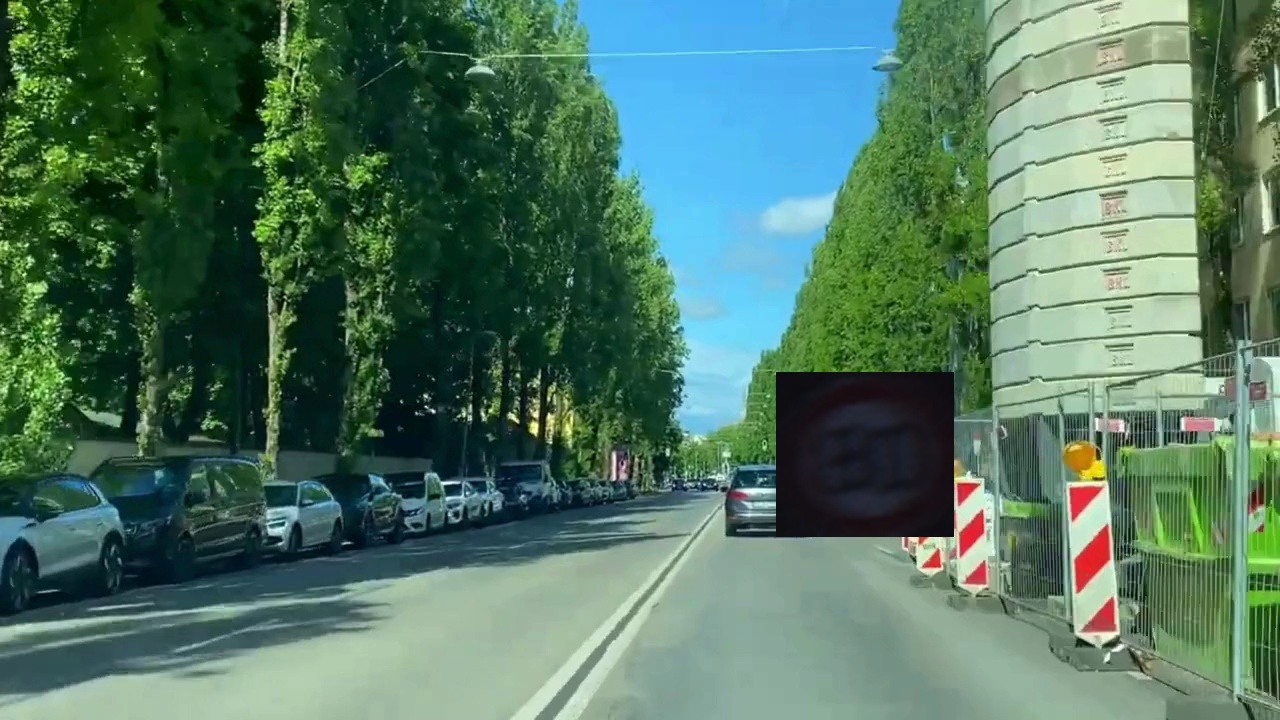Speed 80: (776, 372, 954, 537)
